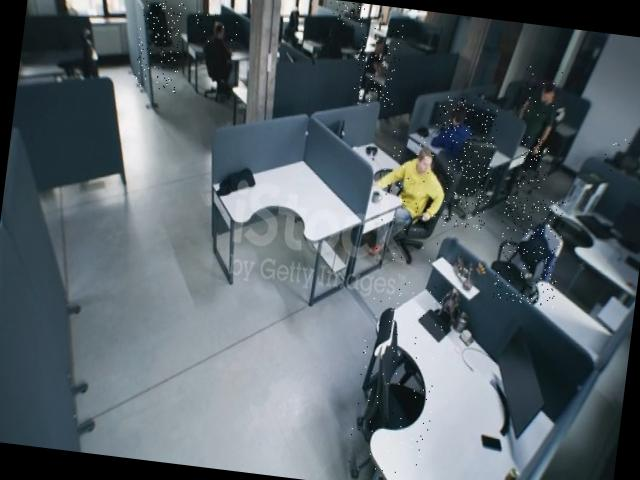empty chair: (347, 277, 448, 477), (492, 195, 565, 308), (132, 0, 188, 93), (70, 17, 120, 84), (600, 134, 640, 183), (516, 135, 550, 191)
occupiedchair: (372, 131, 450, 269), (427, 96, 500, 232), (352, 21, 404, 109)
